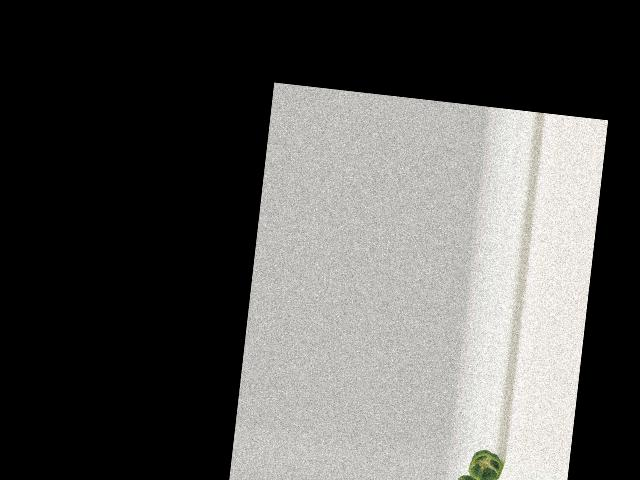bell_pepper: (463, 446, 506, 480)
